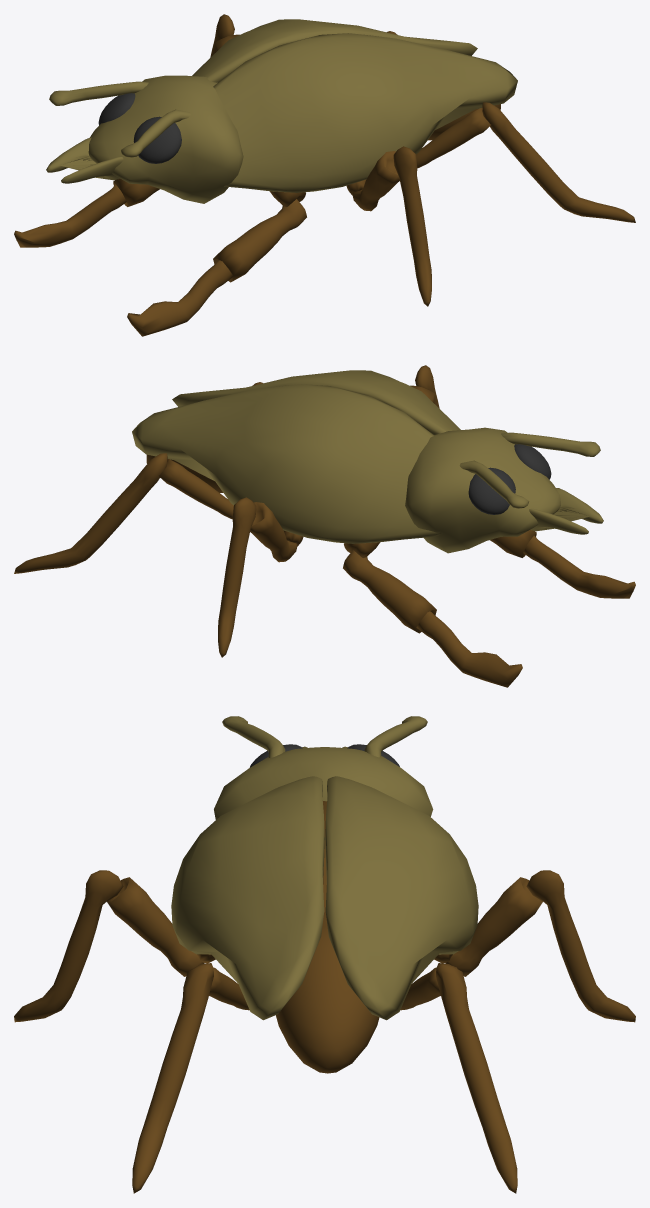
The model's file is przeciwnik.fbx.
The picture shows the model from 3 angles, top to bottom: view 1: azimuth 30°, elevation 25°; view 2: azimuth 150°, elevation 25°; view 3: azimuth 270°, elevation 25°; orthographic projection. The views are drawn at different scales.
Parts seen in each view (by area): view 1: Icosphere.062; view 2: Icosphere.062; view 3: Icosphere.062.
Boxes of the visible parts, x1,y1,x2,y2 form: Icosphere.062: (14,14,635,336); Icosphere.062: (14,365,635,687); Icosphere.062: (14,716,635,1193).
Bounding box in the file's own units: 616 × 238 × 533.
